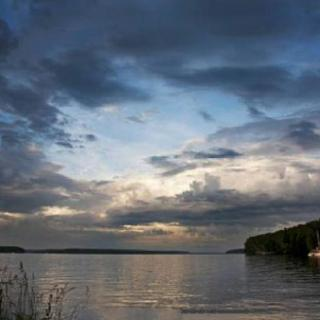Cirrocumulus: (0, 0, 320, 236)
